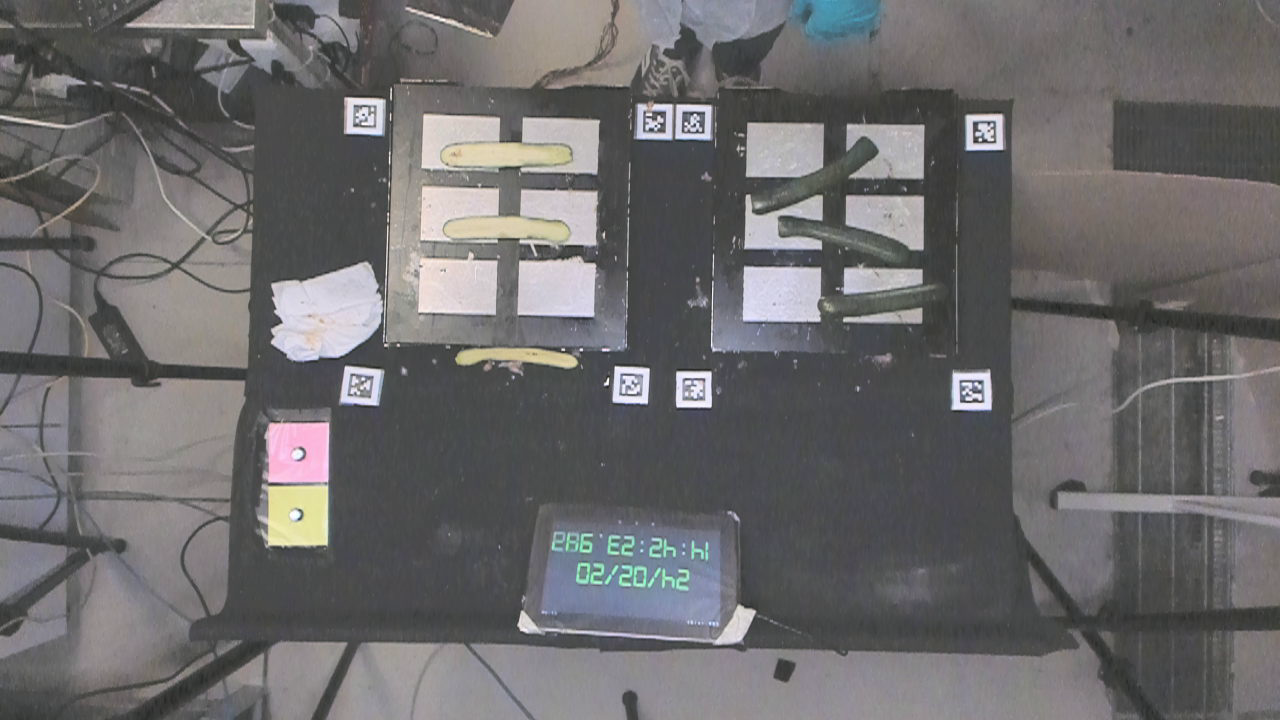marker: (265, 420, 332, 484)
zucchini: (746, 124, 890, 215), (773, 211, 917, 269), (818, 276, 950, 319), (442, 211, 570, 246), (437, 138, 572, 167), (454, 340, 582, 370)
